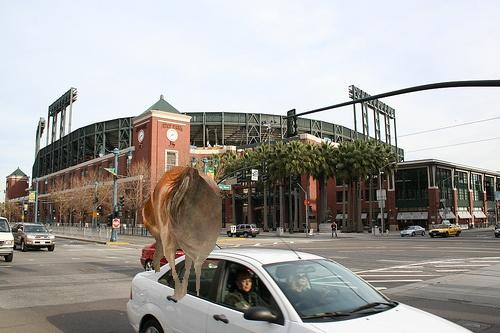tampered: (143, 167, 222, 300)
